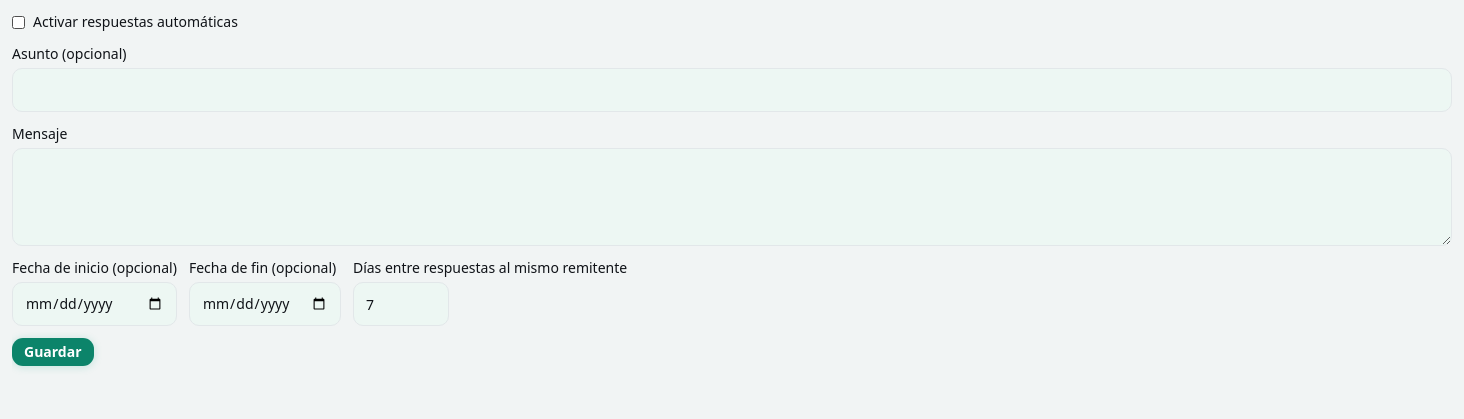
VacationSettings › blocks enabling with a blank message and shows the inline error
Click the checkbox labelled "Activar respuestas automáticas".
click(18, 22)  # box left=12, top=16, right=25, bottom=28
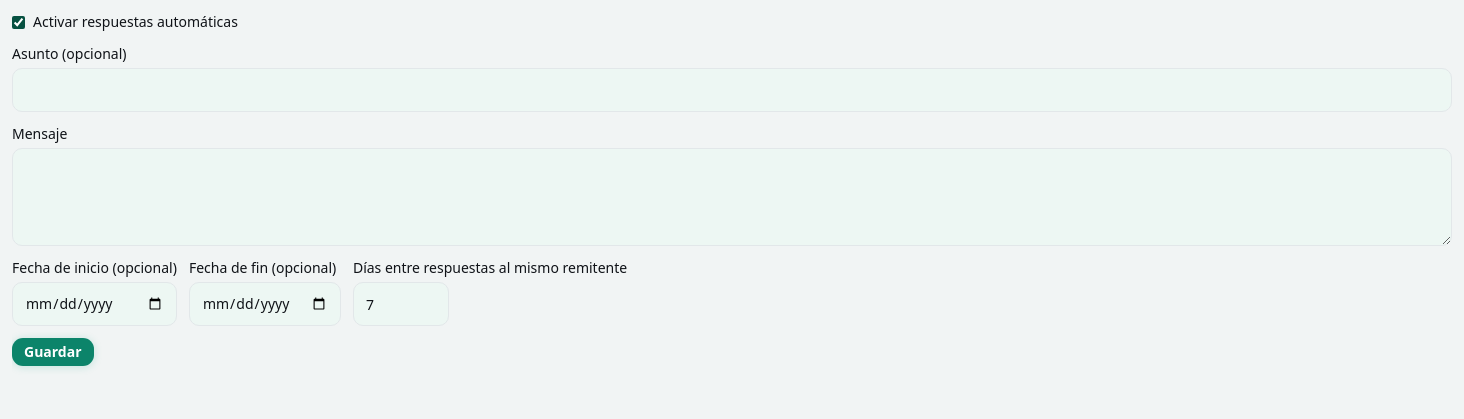
Click the button "Guardar".
click(53, 352)  # box left=12, top=338, right=94, bottom=366
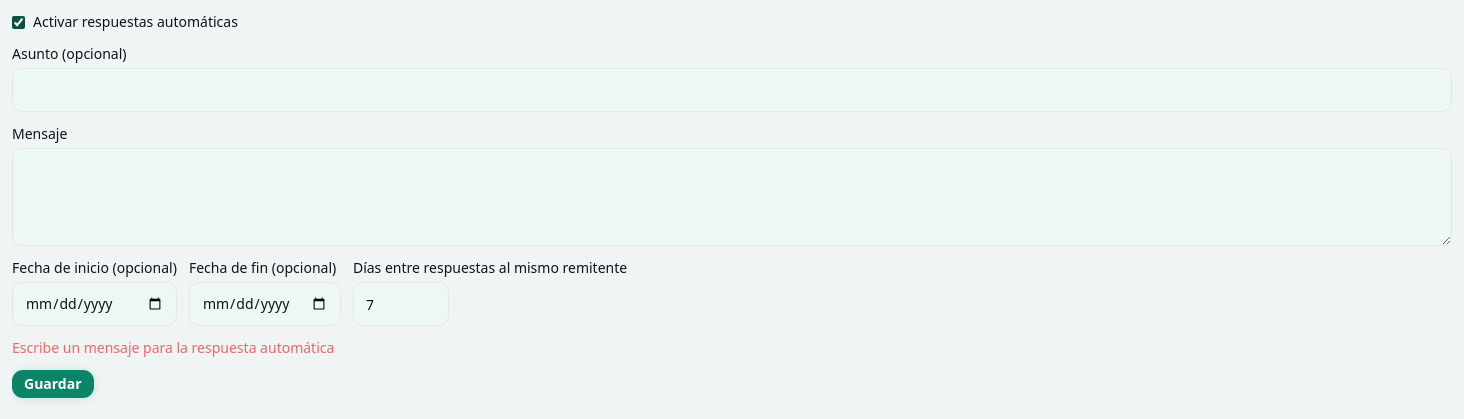
Result: the text "Escribe un mensaje para la respuesta automática" is shown at left=12, top=338, right=334, bottom=357
